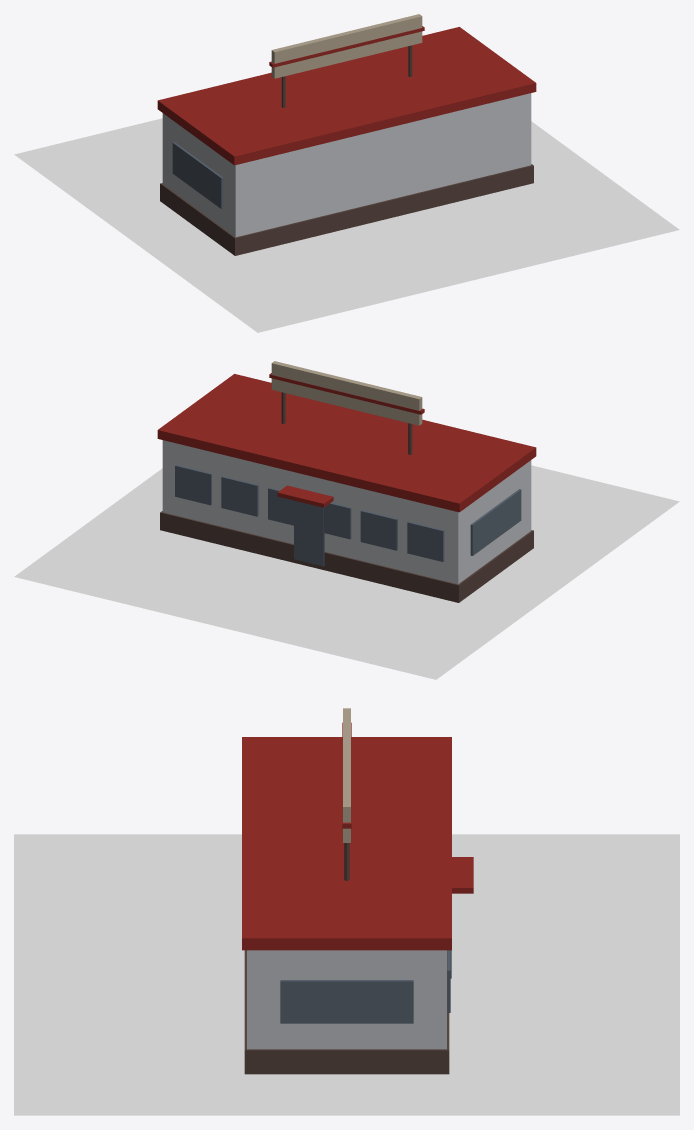
Rendered from diner.glb.
3 views of the same model, one above another, from view 1: azimuth 30°, elevation 25°; view 2: azimuth 150°, elevation 25°; view 3: azimuth 270°, elevation 25° (orthographic). The views are drawn at different scales.
Visible parts, largest first — view 1: Plane, Cube, Cube.002, Cube.001, Cube.013, Cube.009, Cube.014; view 2: Plane, Cube.002, Cube, Cube.001, Cube.013, Cube.011, Cube.009, Cube.004, Cube.007, Cube.003, Cube.008, Cube.005 (+3 smaller); view 3: Plane, Cube.002, Cube, Cube.010, Cube.001, Cube.013, Cube.012.
Boxes of the visible parts, x1=… form: Plane: x1=14, y1=118, x2=679, y2=332; Cube: x1=162, y1=93, x2=531, y2=237; Cube.002: x1=157, y1=27, x2=536, y2=165; Cube.001: x1=160, y1=164, x2=533, y2=255; Cube.013: x1=271, y1=14, x2=422, y2=78; Cube.009: x1=172, y1=142, x2=223, y2=208; Cube.014: x1=269, y1=26, x2=424, y2=67; Plane: x1=14, y1=465, x2=679, y2=679; Cube.002: x1=157, y1=374, x2=536, y2=512; Cube: x1=162, y1=440, x2=531, y2=584; Cube.001: x1=160, y1=511, x2=533, y2=602; Cube.013: x1=271, y1=361, x2=422, y2=425; Cube.011: x1=294, y1=500, x2=324, y2=566; Cube.009: x1=470, y1=489, x2=521, y2=555; Cube.004: x1=360, y1=510, x2=397, y2=550; Cube.007: x1=221, y1=476, x2=258, y2=516; Cube.003: x1=407, y1=521, x2=444, y2=561; Cube.008: x1=175, y1=465, x2=211, y2=505; Cube.005: x1=324, y1=502, x2=351, y2=539; Plane: x1=14, y1=834, x2=679, y2=1115; Cube.002: x1=242, y1=737, x2=451, y2=950; Cube: x1=247, y1=950, x2=446, y2=1049; Cube.010: x1=280, y1=980, x2=413, y2=1023; Cube.001: x1=244, y1=950, x2=449, y2=1074; Cube.013: x1=343, y1=708, x2=350, y2=842; Cube.012: x1=452, y1=857, x2=473, y2=893.
Bounding box in the file's own units: 20 × 7.2 × 20.
